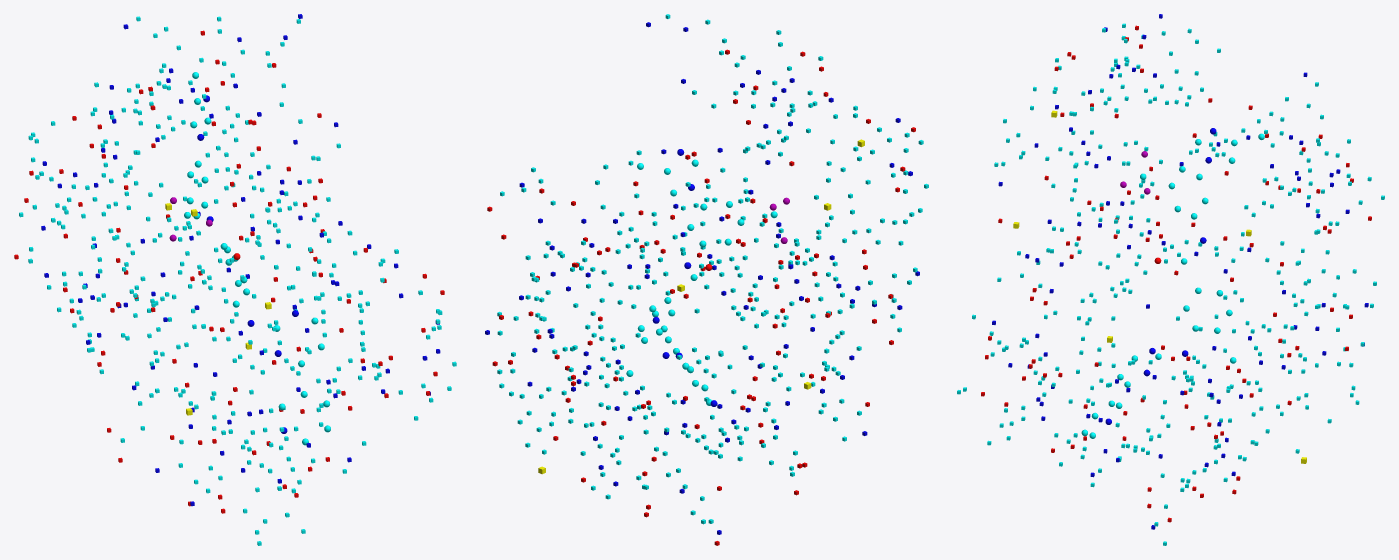
Rendered from nil_b2.glb.
The picture shows the model from 3 angles, left to right: view 1: azimuth 30°, elevation 25°; view 2: azimuth 150°, elevation 25°; view 3: azimuth 270°, elevation 25°; orthographic projection. The views are drawn at different scales.
Bounding box in the file's own units: 2.99 × 3.53 × 2.96.
